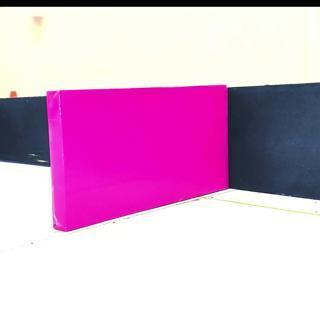xparking: (49, 90, 229, 190)
